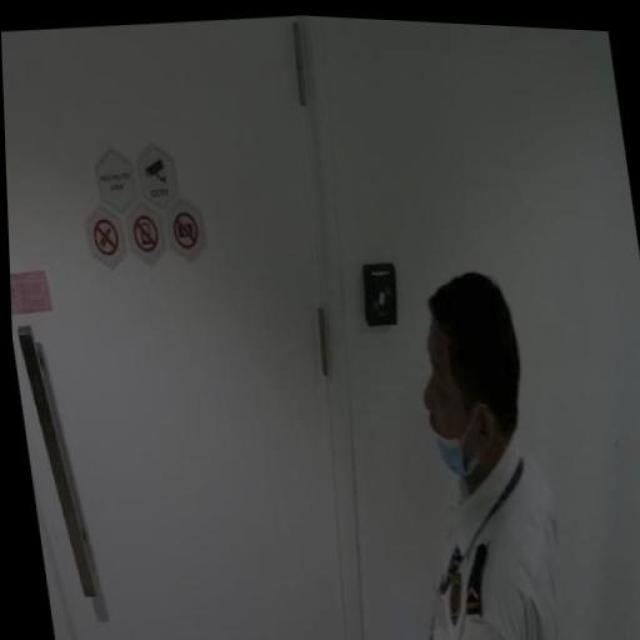hairnet: (408, 334, 488, 477)
